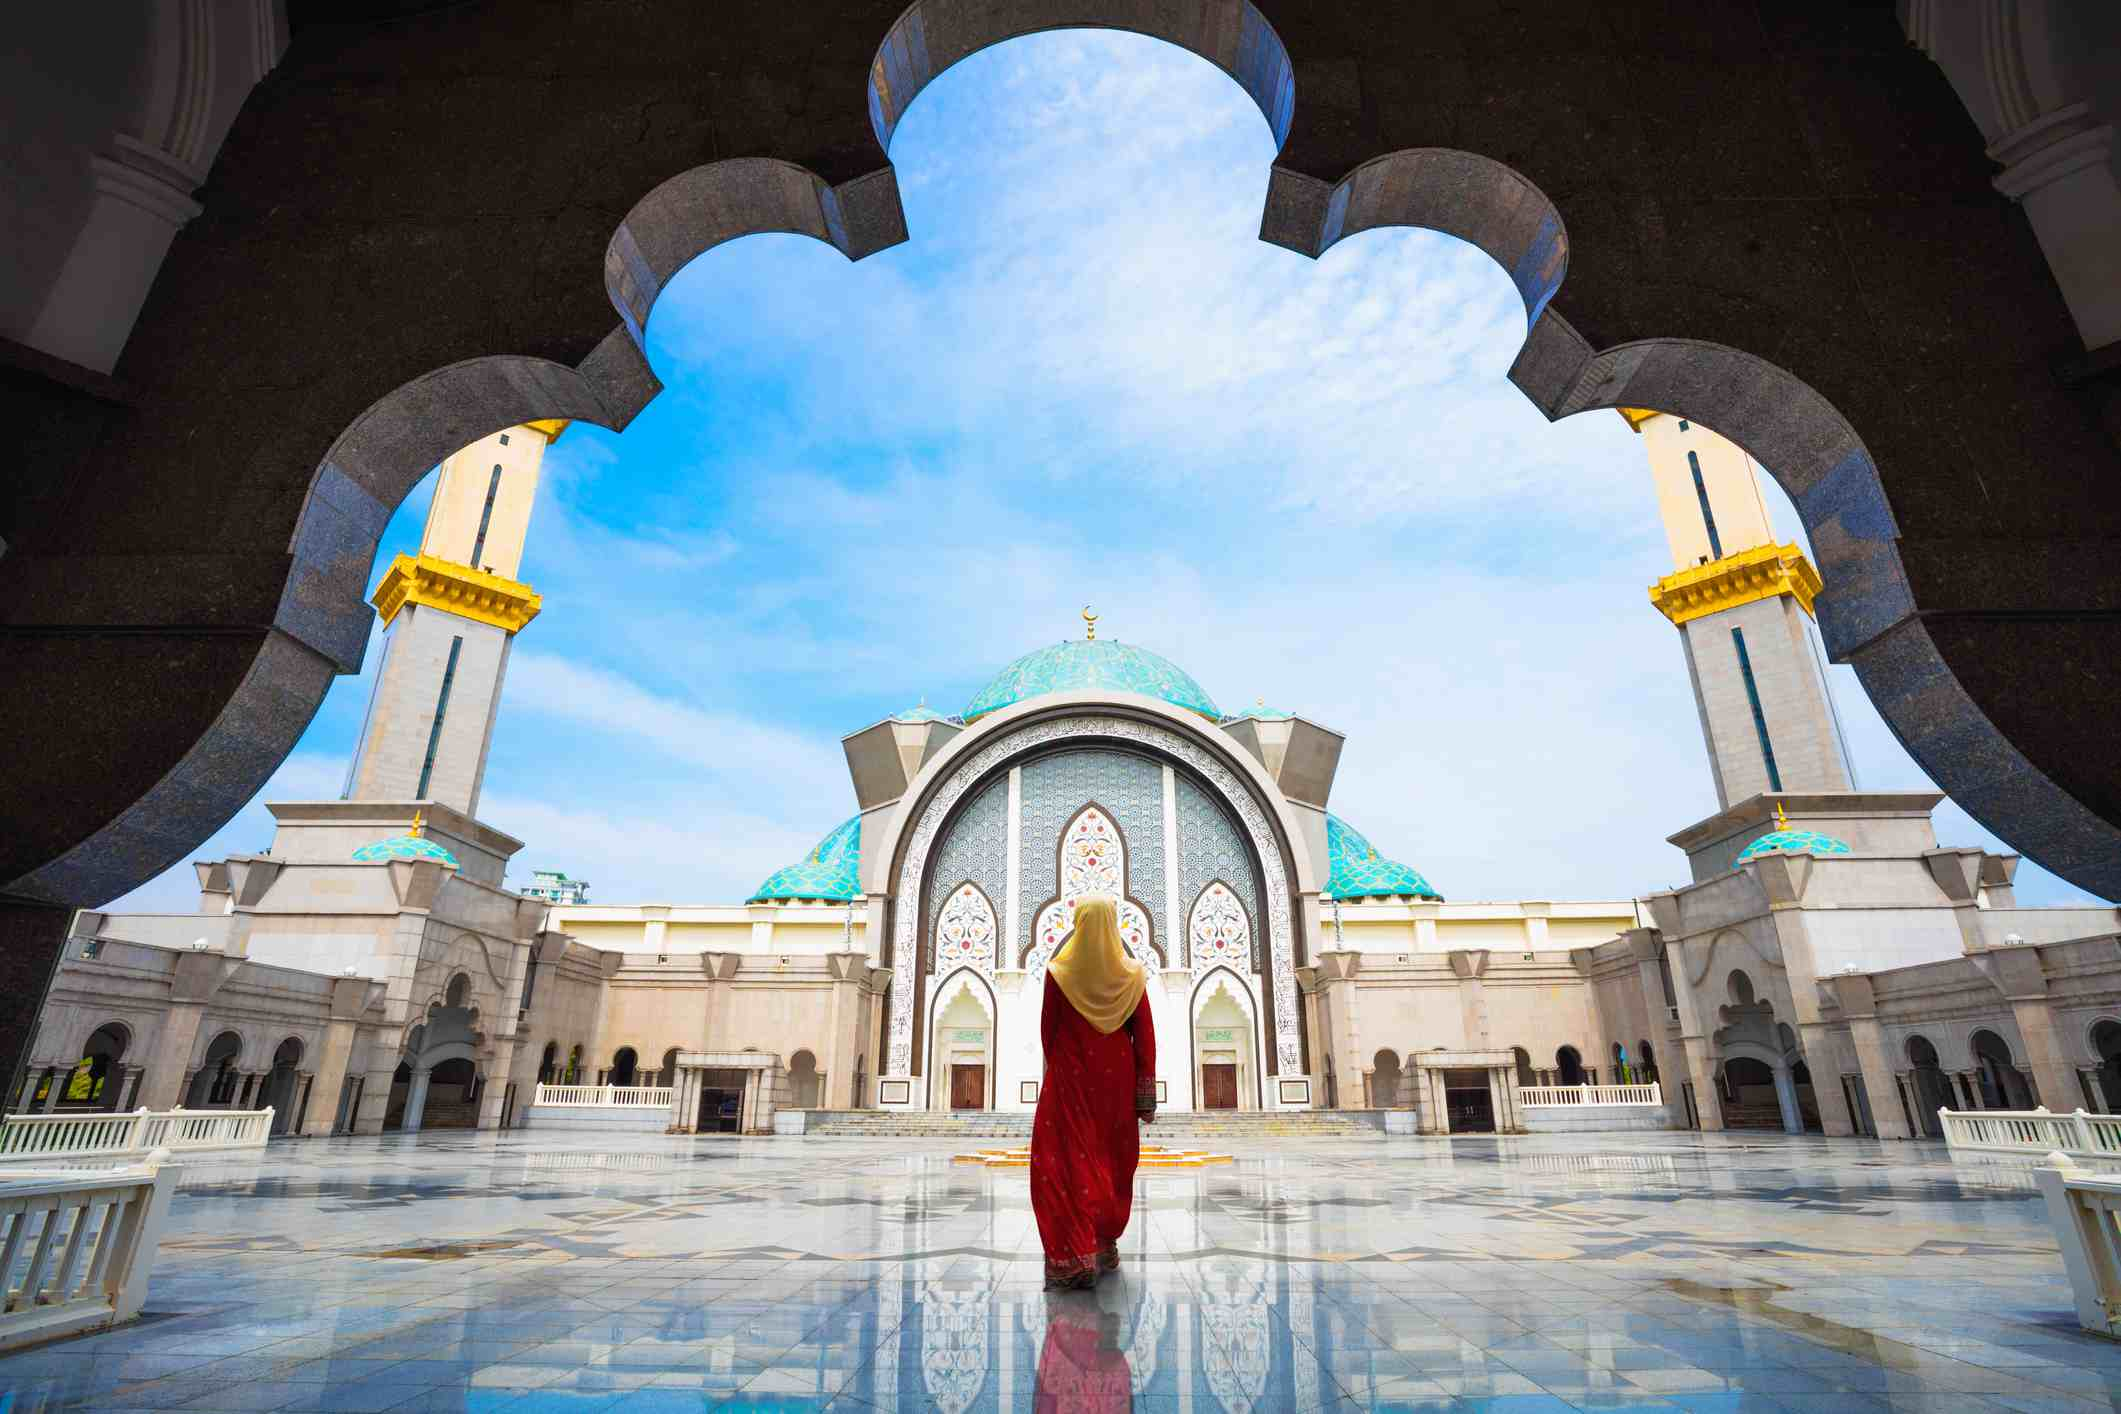Mosque: (202, 305, 1988, 1117)
